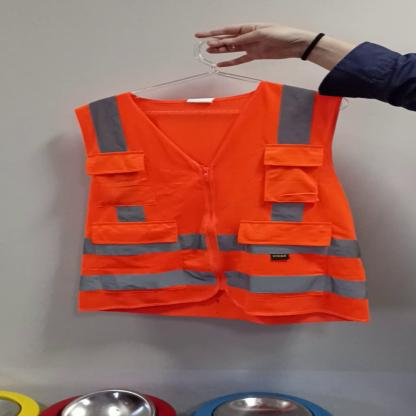colete: (64, 77, 372, 327)
